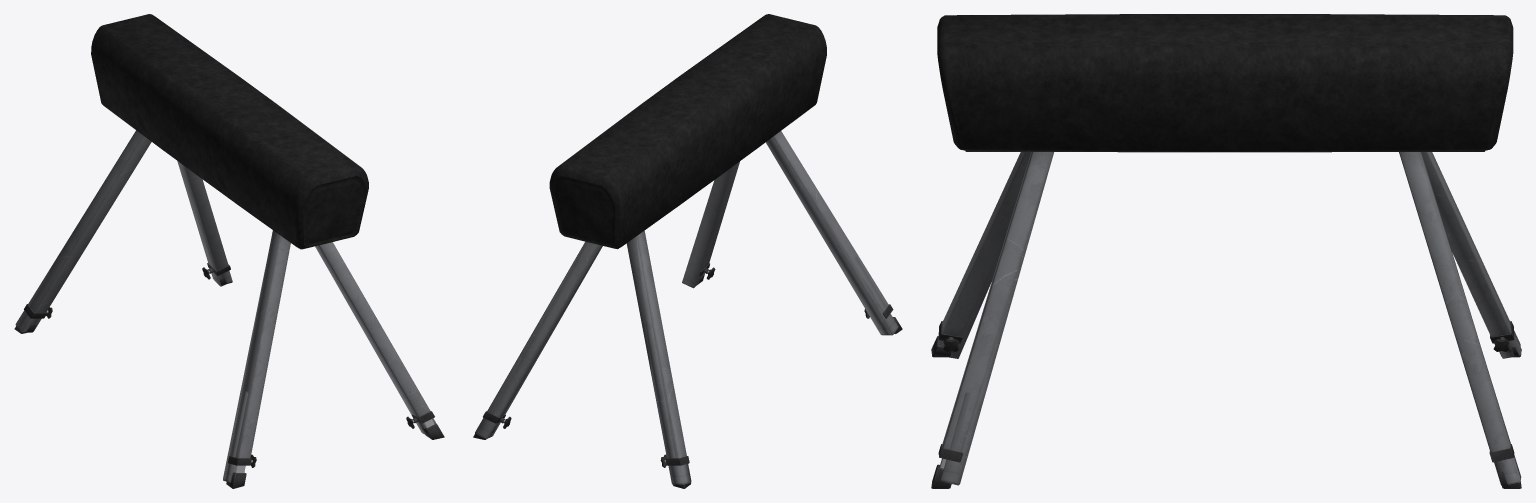
The model's file is SportVaultingHorse02.FBX.
3 renders of one model, left to right at view 1: azimuth 30°, elevation 25°; view 2: azimuth 150°, elevation 25°; view 3: azimuth 270°, elevation 25°, orthographic. The views are drawn at different scales.
Visible parts, largest first — view 1: VaultingHorse02_LOD0, VaultingHorse02_PhyLeather, VaultingHorse02_PhyMetall; view 2: VaultingHorse02_LOD0, VaultingHorse02_PhyMetall, VaultingHorse02_PhyLeather; view 3: VaultingHorse02_LOD0, VaultingHorse02_PhyLeather, VaultingHorse02_PhyMetall.
Boxes of the visible parts, box(x1,y1,x2,y2) form: VaultingHorse02_LOD0: box(14, 14, 444, 488); VaultingHorse02_PhyLeather: box(91, 20, 368, 246); VaultingHorse02_PhyMetall: box(15, 161, 436, 482); VaultingHorse02_LOD0: box(473, 14, 902, 488); VaultingHorse02_PhyMetall: box(475, 137, 898, 484); VaultingHorse02_PhyLeather: box(550, 14, 826, 246); VaultingHorse02_LOD0: box(931, 14, 1521, 488); VaultingHorse02_PhyLeather: box(941, 14, 1511, 152); VaultingHorse02_PhyMetall: box(940, 152, 1521, 486).
Size of what is drawn, in the model's own units: 0.8747 by 1.14 by 1.56.
